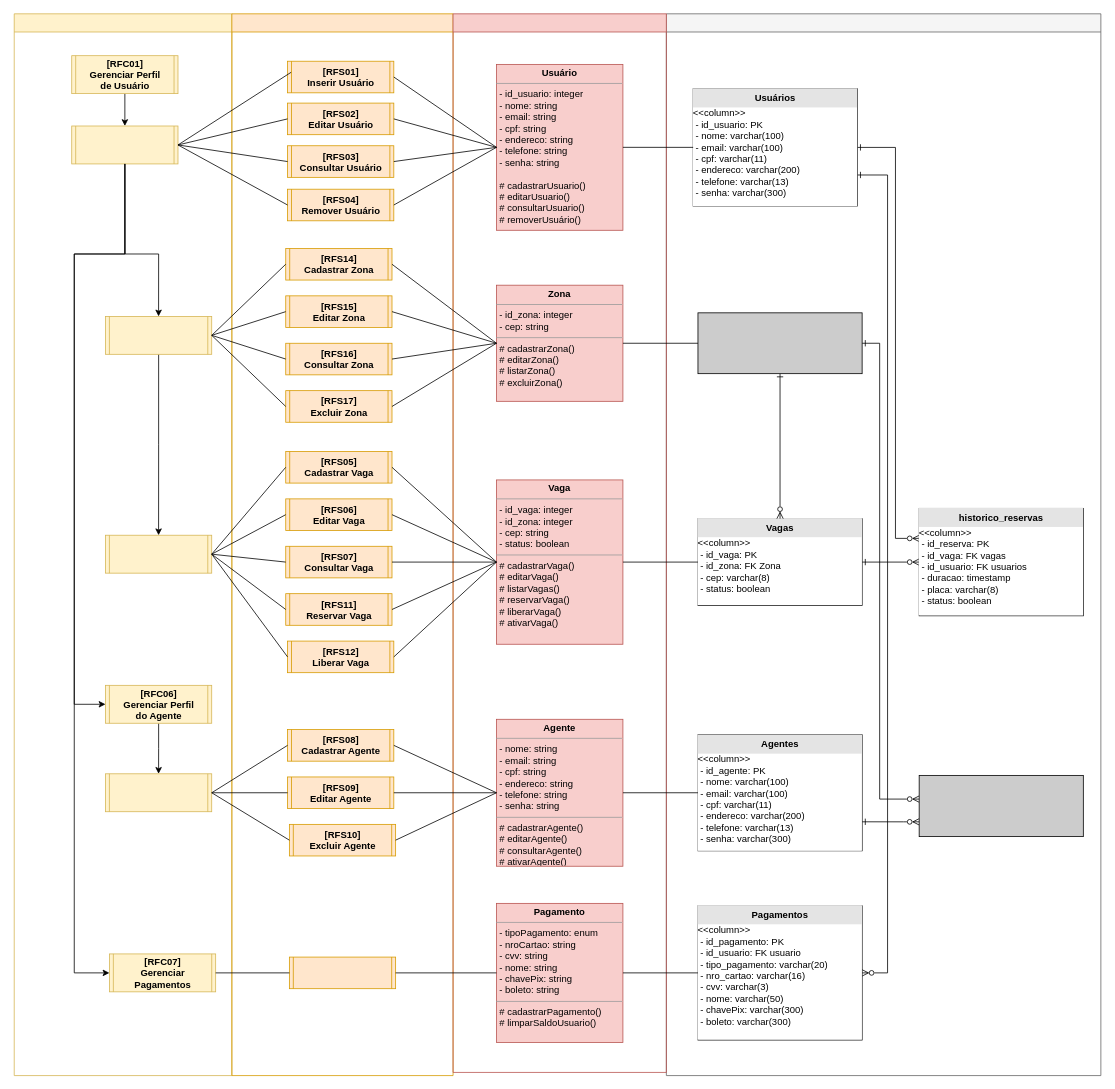
Image size: 1115x1089. Some labels were removed from this diagram. Here are the shapes that lost their labels. From the top down, the box of each, then its label:
(71, 125, 178, 164): [RFC02] Manter Usuário
(105, 316, 212, 354): [RFC03] Manter Zona
(697, 312, 862, 374): Zonas <<column>> - id_zona: PK - cep: varchar(8)
(13, 13, 232, 1076): Requisitos Funcionais de Cliente
(105, 534, 212, 573): [RFC04] Manter Vaga
(231, 13, 453, 1076): Requisitos Funcionais de Sistema
(452, 13, 666, 1072): Classes
(666, 13, 1101, 1076): Tabelas
(105, 773, 212, 812): [RFC07] Manter Agente
(918, 775, 1083, 837): alocacao_agentes <<column>> - id_agente: FK agentes - id_zona: FK zonas
(289, 956, 396, 989): [RFS13] Cadastrar Pagamento
